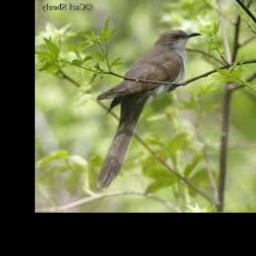Cuckoo: (97, 30, 201, 189)
